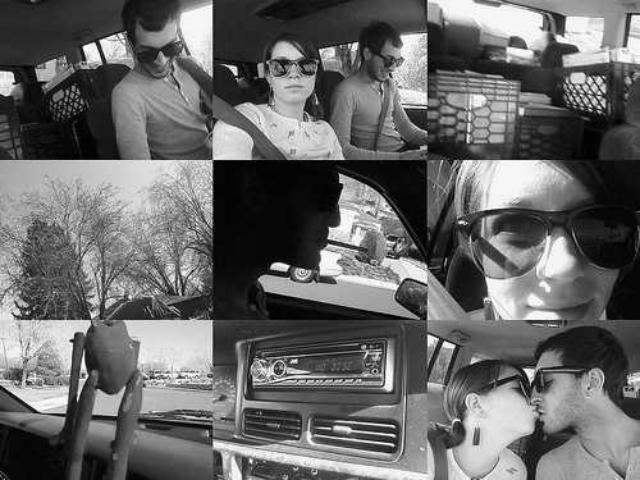Seatbelt: (212, 92, 290, 160), (427, 265, 477, 321), (372, 77, 391, 151)
